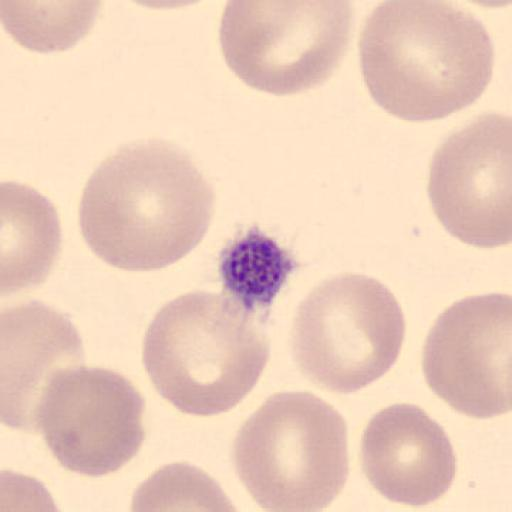Platelet: (216, 224, 300, 310)
RBC: (75, 136, 217, 276), (358, 0, 496, 126), (141, 288, 270, 420), (286, 270, 408, 397), (230, 388, 352, 512), (32, 362, 146, 480), (218, 1, 354, 98), (421, 291, 512, 423), (426, 114, 512, 251), (3, 298, 88, 434), (358, 401, 458, 509), (2, 179, 63, 298), (127, 460, 244, 512), (2, 0, 106, 55), (1, 468, 64, 512), (107, 0, 228, 11), (436, 0, 512, 10)
